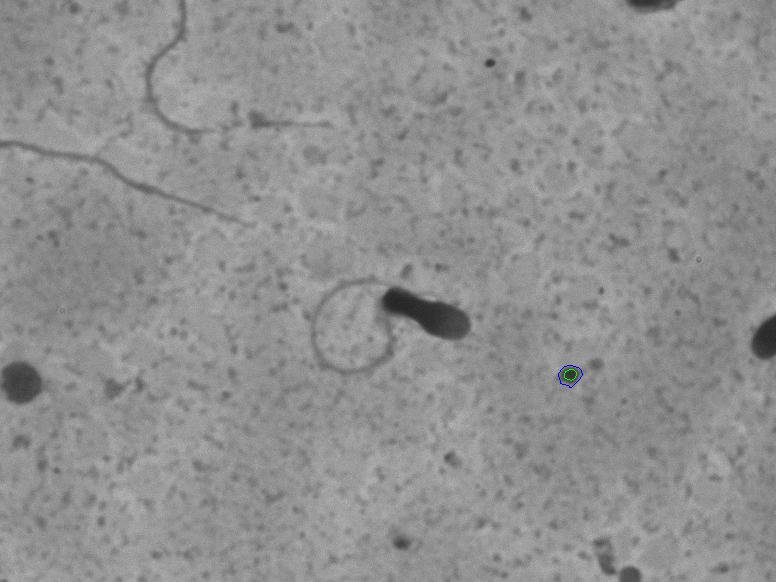Abnormal: (287, 247, 491, 402)
